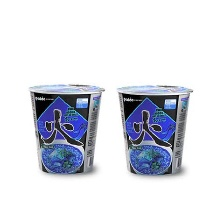paper_cup: (113, 78, 196, 180), (24, 80, 107, 178)
